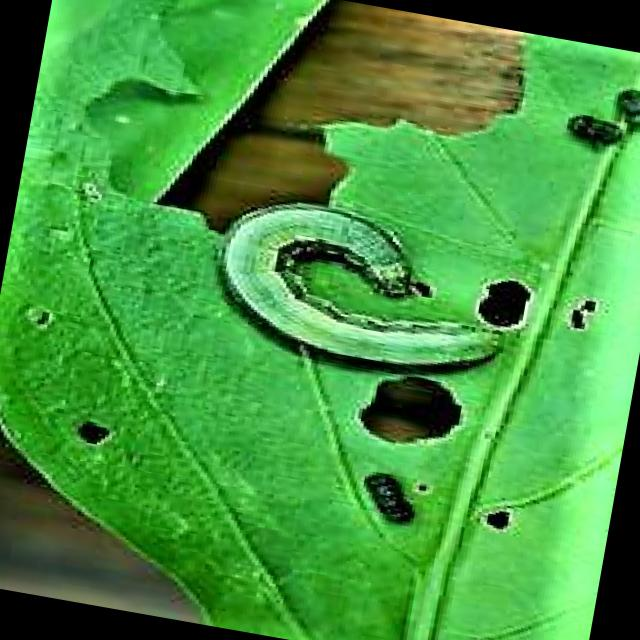Armyworm: (166, 175, 519, 411), (317, 451, 464, 555)
Armyworm_damage: (321, 351, 487, 463), (546, 275, 629, 356), (58, 397, 147, 469), (468, 259, 558, 329), (457, 489, 534, 559), (459, 613, 555, 640)
